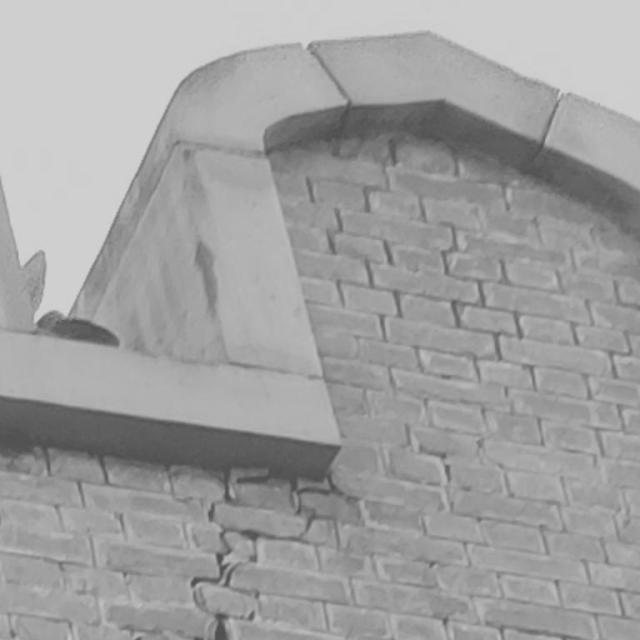crack: (191, 466, 344, 640)
